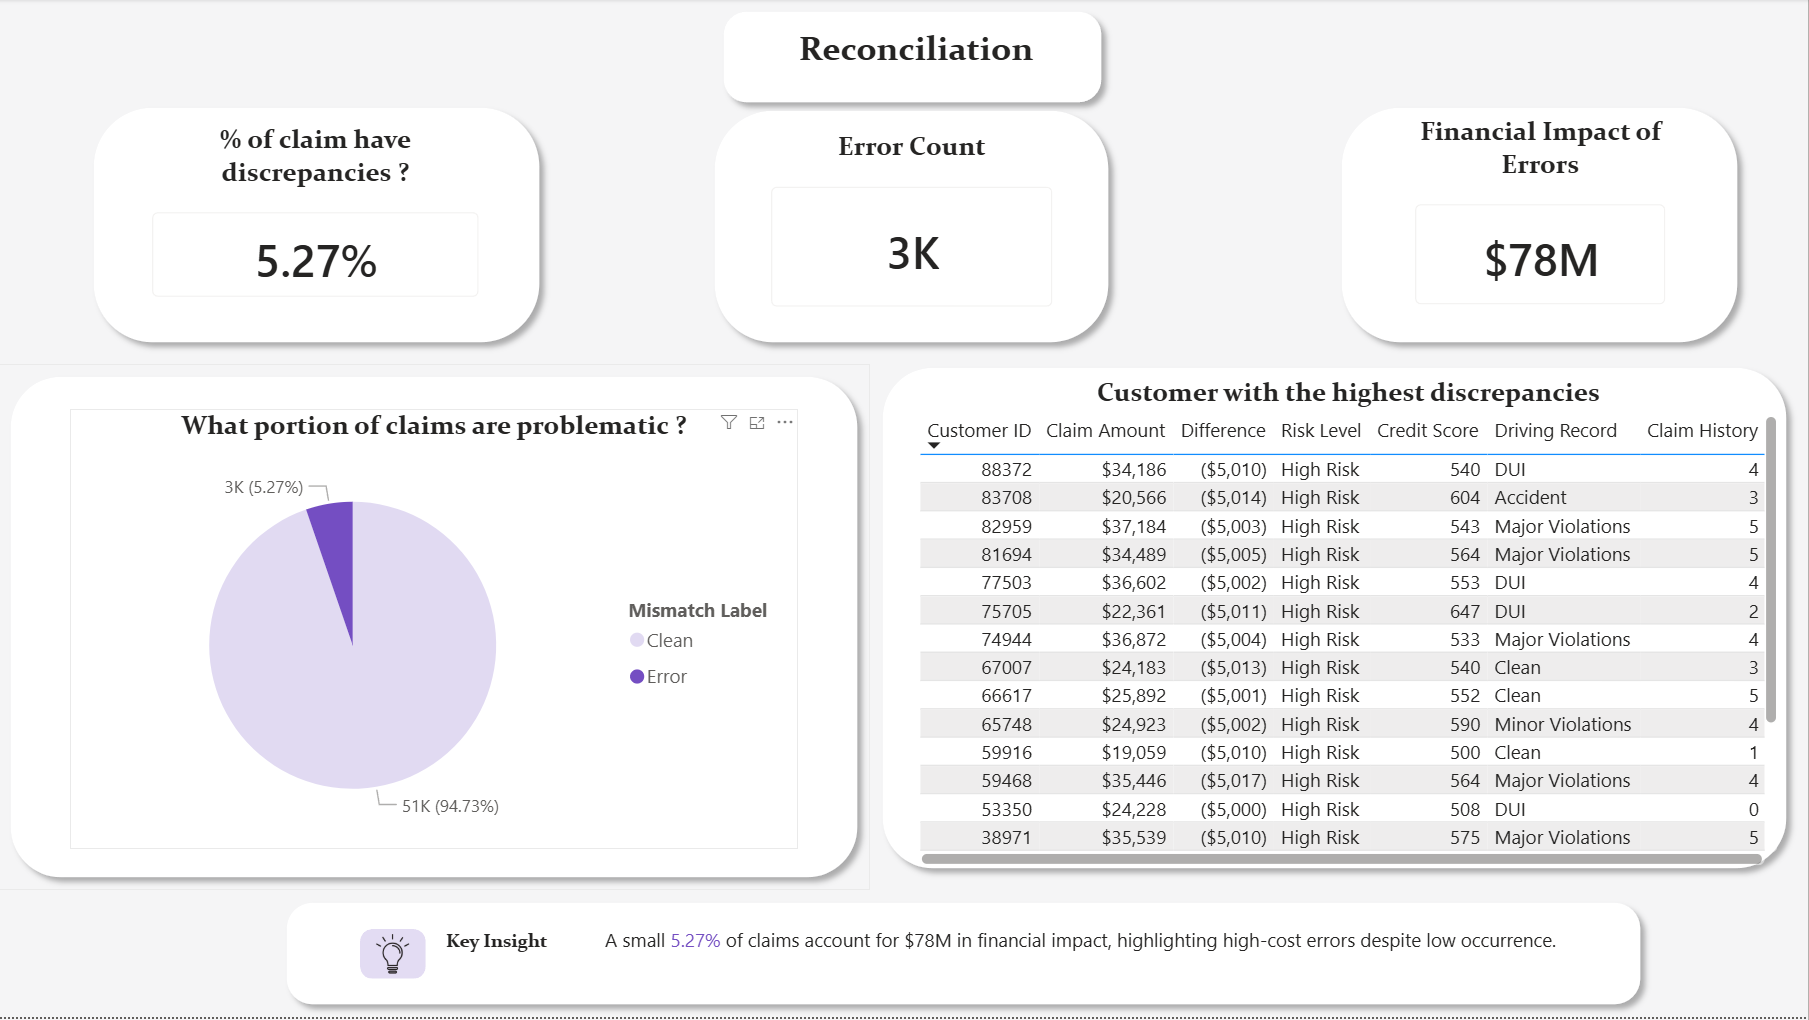

The dashboard page shown, as its layout file describes it:
{"tool":"powerbi","page":{"name":"Reconciliation ","canvas":[1280,720],"ordinal":2},"visuals":[{"type":"group","id":"g1","title":"Title","box":[504.2,0,285,82],"z":0},{"type":"shape","box":[504.2,0,285,82],"z":0,"group":"g1"},{"type":"shape","box":[941.3,67.9,297.7,183.9],"z":0,"group":"g5"},{"type":"shape","box":[58.9,68,333.1,183.9],"z":0,"group":"g2"},{"type":"shape","box":[497.9,70,296.3,181.7],"z":0,"group":"g3"},{"type":"shape","box":[616.7,251.8,657,372],"z":0,"group":"g6"},{"type":"shape","box":[0,258.1,616.7,372],"z":0,"group":"g7"},{"type":"shape","box":[195.2,630.1,975.2,89.8],"z":0,"group":"g8"},{"type":"shape","title":"Bulb Shape","box":[256.2,657.8,46.5,35.4],"z":0,"group":"g4"},{"type":"textbox","title":"Title Text box","box":[520.5,14.9,257.4,57.3],"z":1000,"group":"g1"},{"type":"group","id":"g2","title":"Card 1","box":[58.9,68,333.1,183.9],"z":1000},{"type":"cardVisual","title":"Financial Impact of Errors","fields":{"Data":["Sheet1.Error Impact"]},"box":[984.8,82.3,211.4,151.2],"z":1000,"group":"g5"},{"type":"cardVisual","title":"% of claim have discrepancies ?","fields":{"Data":["Sheet1.Mismatch%"]},"box":[92.2,87.8,265.2,140],"z":1000,"group":"g2"},{"type":"cardVisual","title":"Error Count","fields":{"Data":["Sheet1.Mismatch Count"]},"box":[529.9,92.3,233,142.3],"z":1000,"group":"g3"},{"type":"tableEx","title":"Customer with the highest discrepancies","fields":{"Values":["Sum(Sheet1.customer_id)","Sum(Sheet1.claim_amount)","Sum(Sheet1.difference)","Sheet1.risk_level","Sum(Sheet1.credit_score)","Sheet1.driving_record","Sum(Sheet1.claim_history)"]},"box":[646.4,266.7,617.4,350.8],"z":1000,"group":"g6"},{"type":"pieChart","title":"What portion of claims are problematic ?","fields":{"Y":["Sheet1.RowCount"],"Category":["Sheet1.Mismatch Label"]},"box":[50.9,289.9,514.8,311.2],"z":1000,"group":"g7"},{"type":"textbox","box":[424.3,651.3,688.1,46.7],"z":1000,"group":"g8"},{"type":"image","title":"LighBulb","box":[263.4,661,31.8,28.5],"z":1000,"group":"g4"},{"type":"group","id":"g3","title":"Card 2","box":[497.9,70,296.3,181.7],"z":2000},{"type":"group","id":"g4","title":"Bulb Icon","box":[256.2,657.8,46.2,35.4],"z":2000,"group":"g8"},{"type":"textbox","box":[311.9,651.3,90.5,30.4],"z":2500,"group":"g8"},{"type":"group","id":"g5","title":"Card 3","box":[941.3,67.9,297.7,183.9],"z":3000},{"type":"group","id":"g6","title":"Table","box":[616.7,251.8,657,372],"z":4000},{"type":"group","id":"g7","title":"Pie Chart","box":[0,258.1,616.7,372],"z":5000},{"type":"group","id":"g8","title":"Insight","box":[195.2,630.1,975.2,89.8],"z":6000}]}

Visuals, with their boxes in screenshot pixels (x1, y1, x2, y2), scaled from the page's 1280x720 canvas onto the 1809x1020 screenshot:
"Title" group: select_region(713, 0, 1115, 116)
shape: select_region(713, 0, 1115, 116)
shape: select_region(1330, 96, 1751, 357)
shape: select_region(83, 96, 554, 357)
shape: select_region(704, 99, 1122, 357)
shape: select_region(872, 357, 1800, 884)
shape: select_region(0, 366, 872, 893)
shape: select_region(276, 893, 1654, 1019)
"Bulb Shape" shape: select_region(362, 932, 428, 982)
"Title Text box" textbox: select_region(736, 21, 1099, 102)
"Card 1" group: select_region(83, 96, 554, 357)
"Financial Impact of Errors" cardVisual: select_region(1392, 117, 1691, 331)
"% of claim have discrepancies ?" cardVisual: select_region(130, 124, 505, 323)
"Error Count" cardVisual: select_region(749, 131, 1078, 332)
"Customer with the highest discrepancies" tableEx: select_region(914, 378, 1786, 875)
"What portion of claims are problematic ?" pieChart: select_region(72, 411, 799, 852)
textbox: select_region(600, 923, 1572, 989)
"LighBulb" image: select_region(372, 936, 417, 977)
"Card 2" group: select_region(704, 99, 1122, 357)
"Bulb Icon" group: select_region(362, 932, 427, 982)
textbox: select_region(441, 923, 569, 966)
"Card 3" group: select_region(1330, 96, 1751, 357)
"Table" group: select_region(872, 357, 1800, 884)
"Pie Chart" group: select_region(0, 366, 872, 893)
"Insight" group: select_region(276, 893, 1654, 1019)
